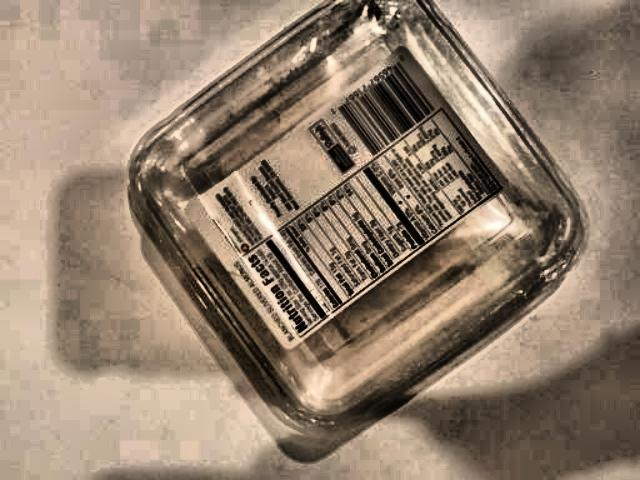Plastic: (1, 6, 640, 480)
